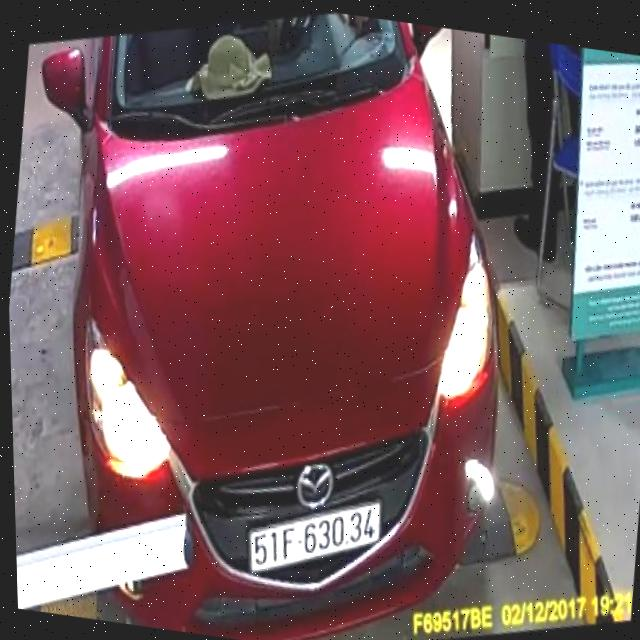car: (0, 0, 548, 640)
plate: (244, 480, 387, 590)
